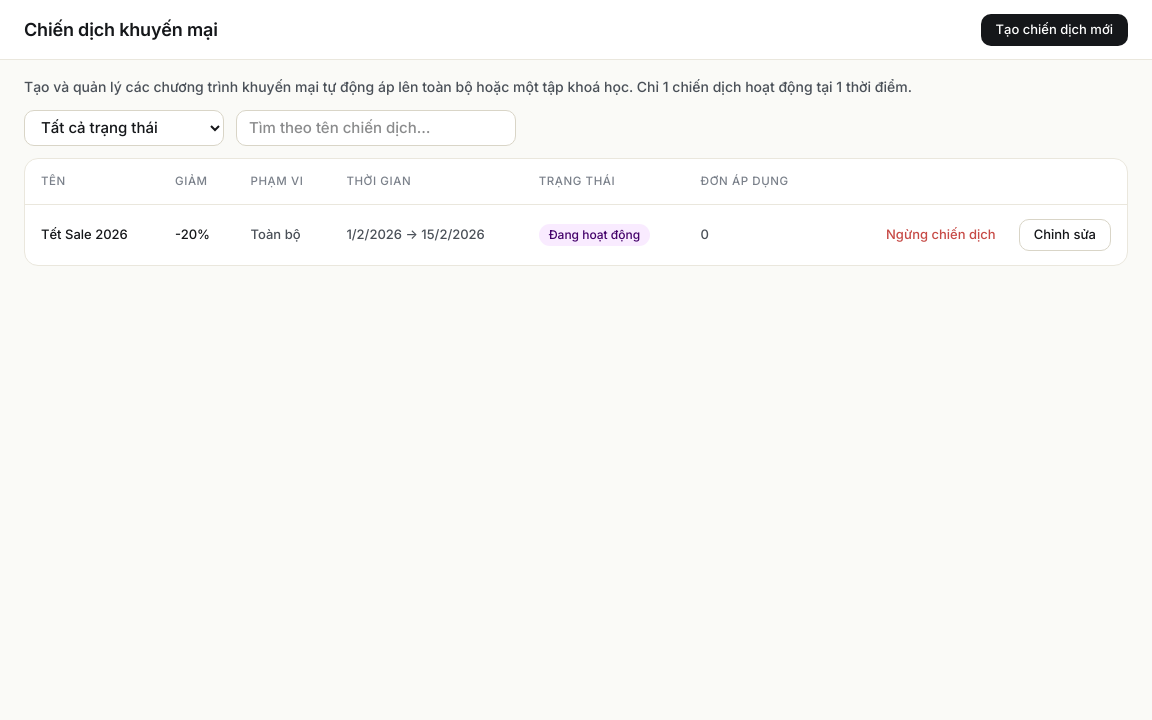
Test: AdminCampaignsPage › does not deactivate the campaign when the admin cancels the dialog
This screenshot has width=1152, height=720.
expect the row with test id "admin-campaigns-row-cmp-1" is shown: met, box [25,204,1127,265]
Click the button with test id "admin-campaigns-deactivate-cmp-1".
click(941, 235)  # box [871,219,1011,251]
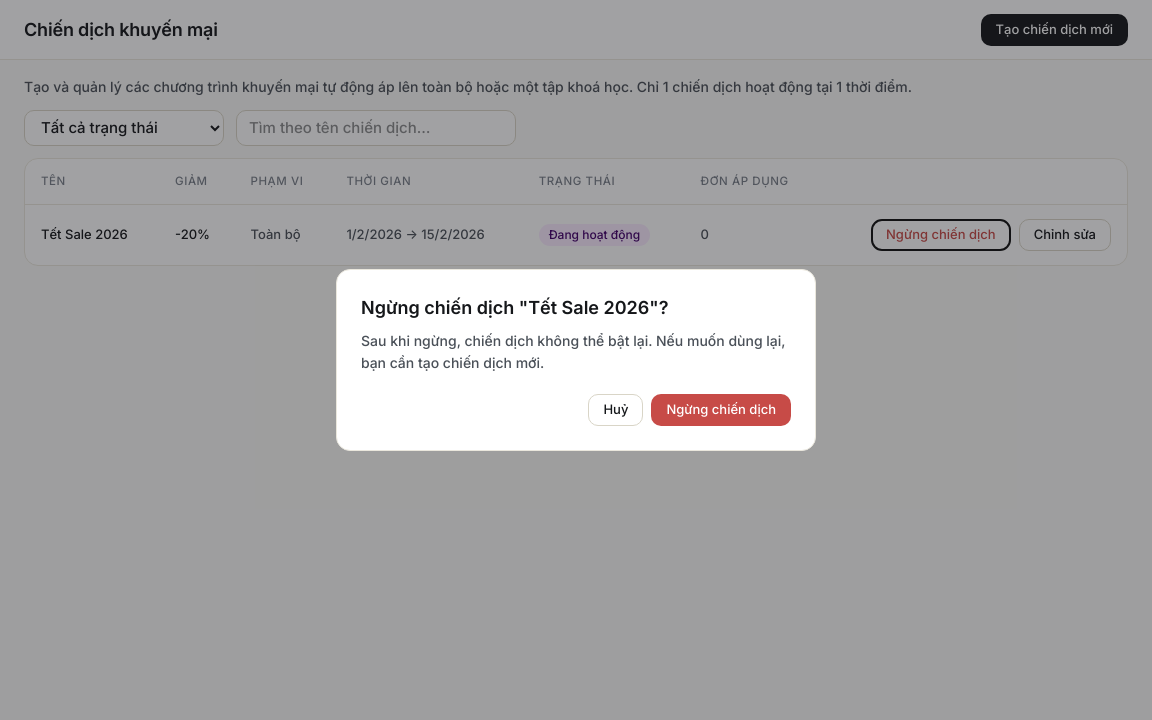
expect the dialog with test id "admin-campaigns-deactivate-dialog" is shown: met
Click the button with test id "admin-campaigns-deactivate-cancel".
click(616, 410)  # box [588,394,643,426]
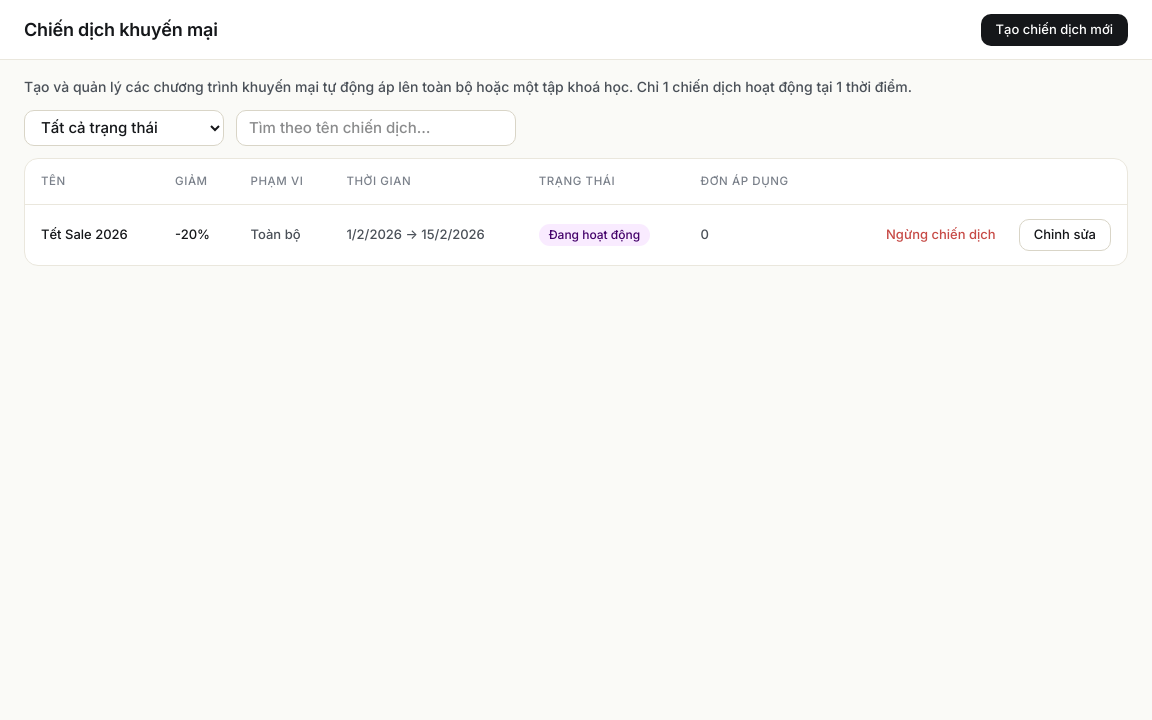
expect the dialog with test id "admin-campaigns-deactivate-dialog" is gone: met
